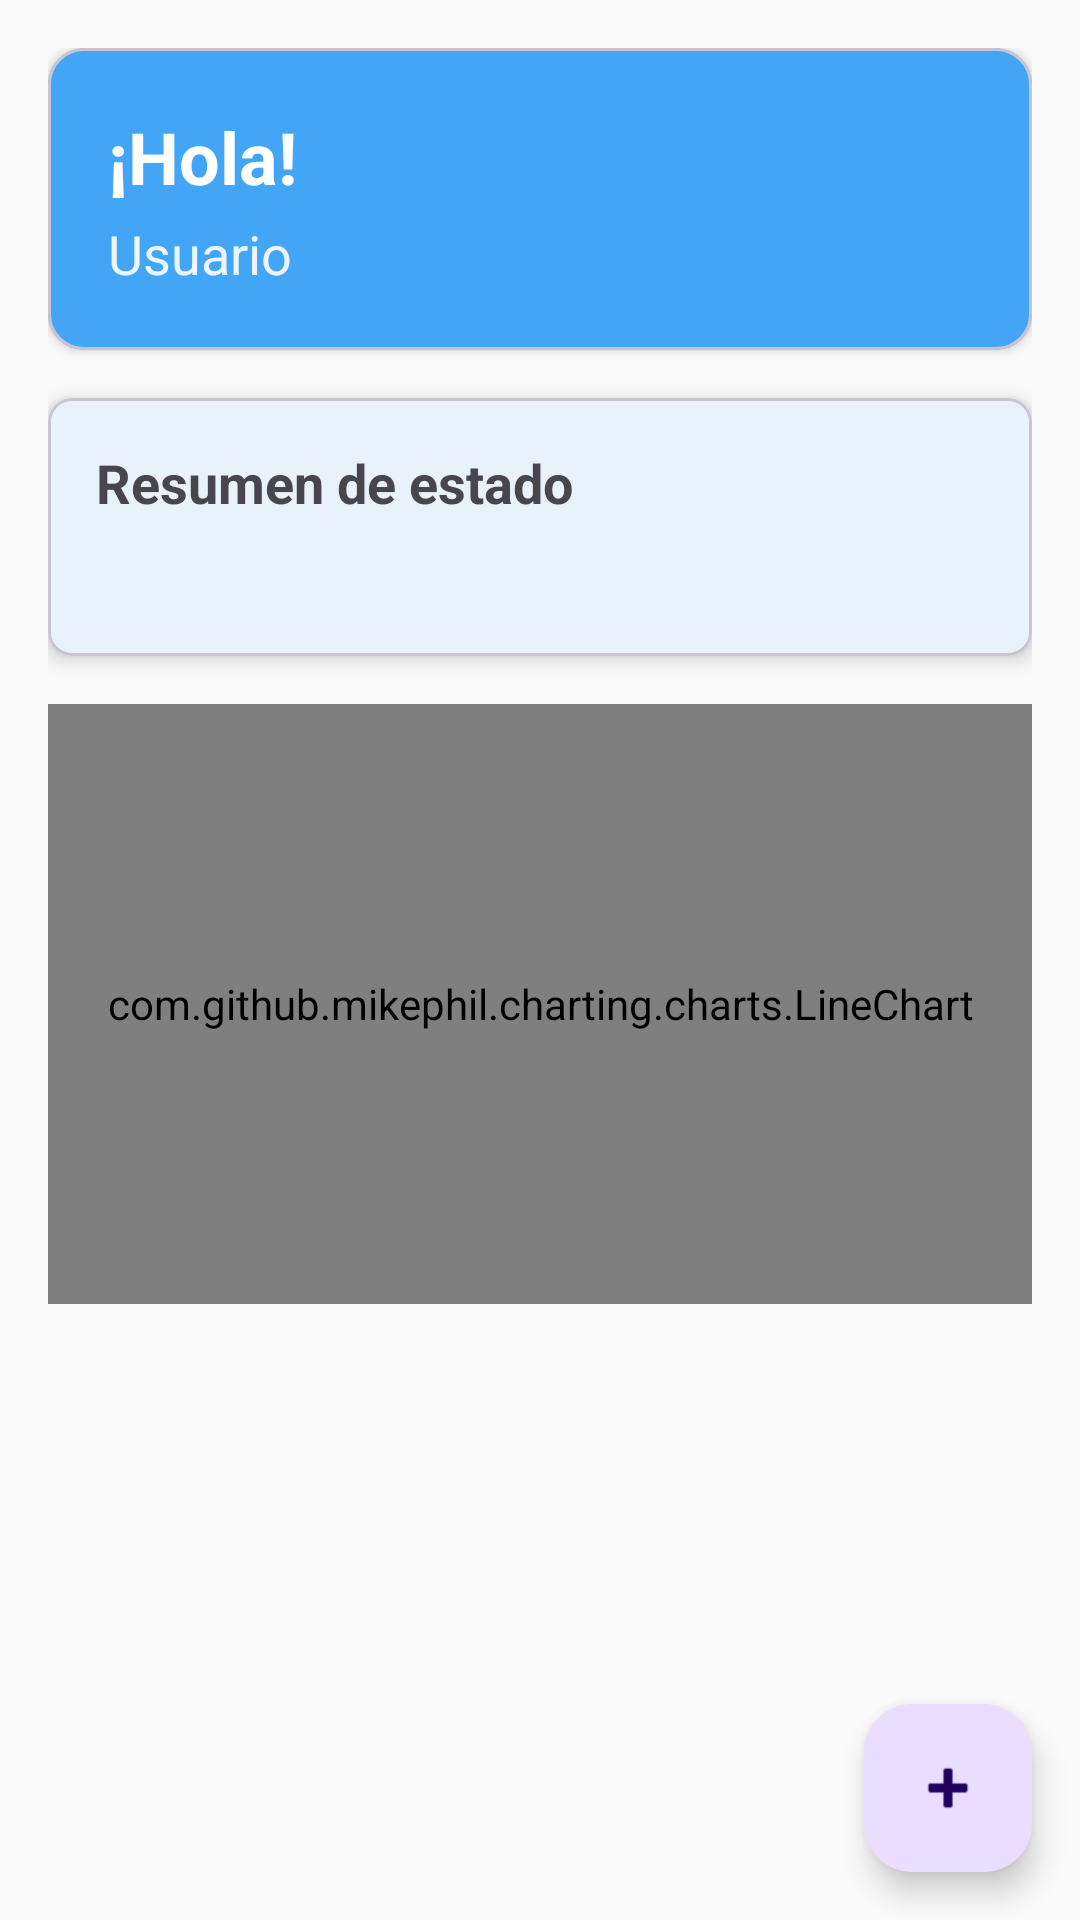

Screen size 1080px x 1920px. Icon name, then its center in pixels as (x=x, y=y):
Agregar nuevo registro: (x=948, y=1788)
